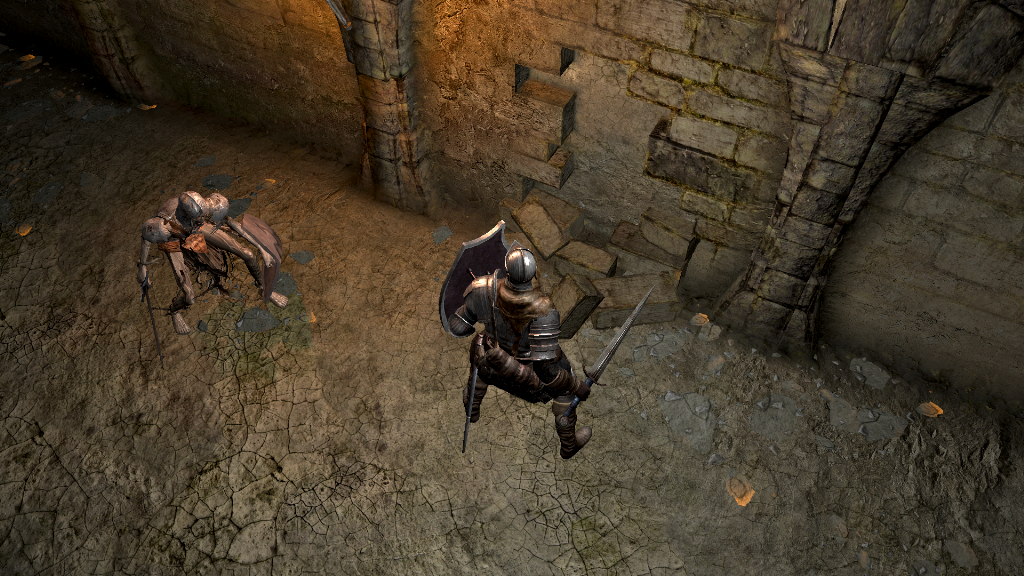player: (439, 217, 655, 462)
undeadSoldier: (136, 189, 290, 334)
